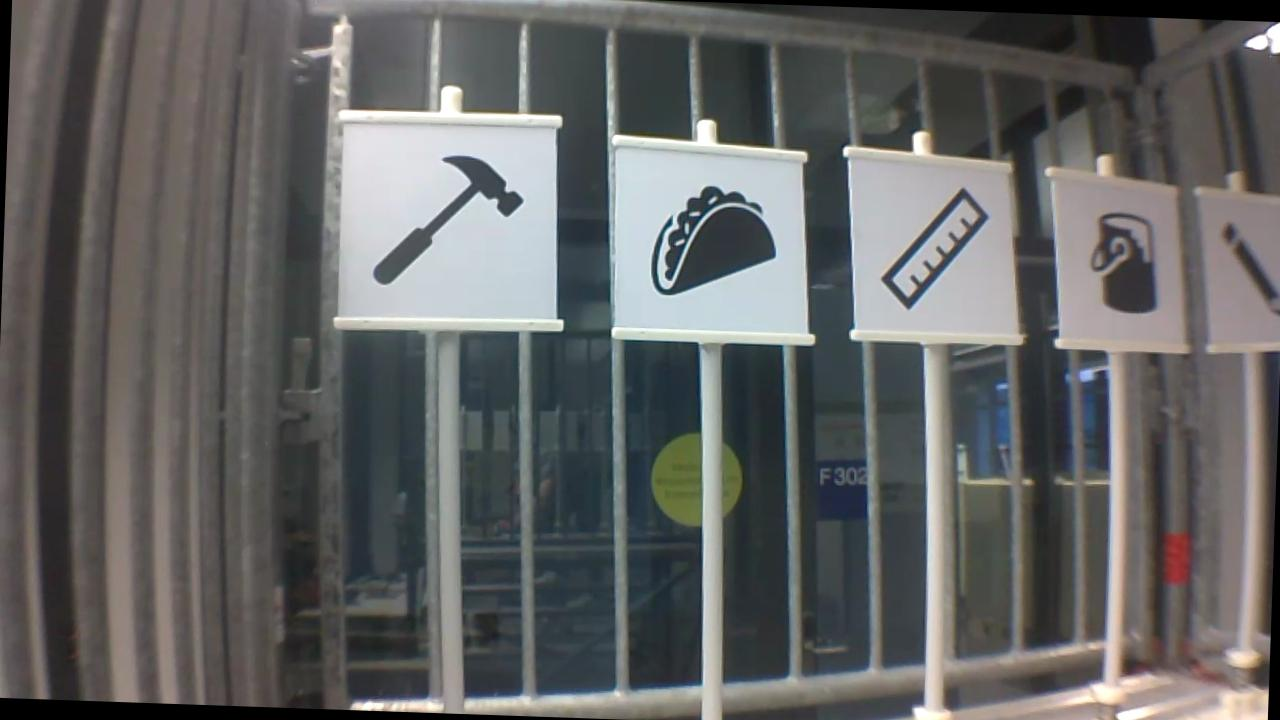bucket: (1076, 201, 1168, 318)
hammer: (365, 147, 532, 291)
pencil: (1212, 218, 1280, 318)
ruler: (873, 177, 997, 316)
taco: (646, 176, 785, 303)
